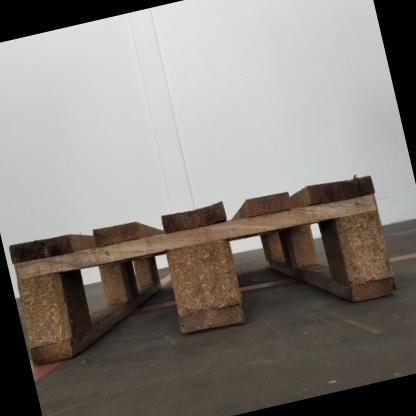BoxFace: (6, 167, 400, 373)
